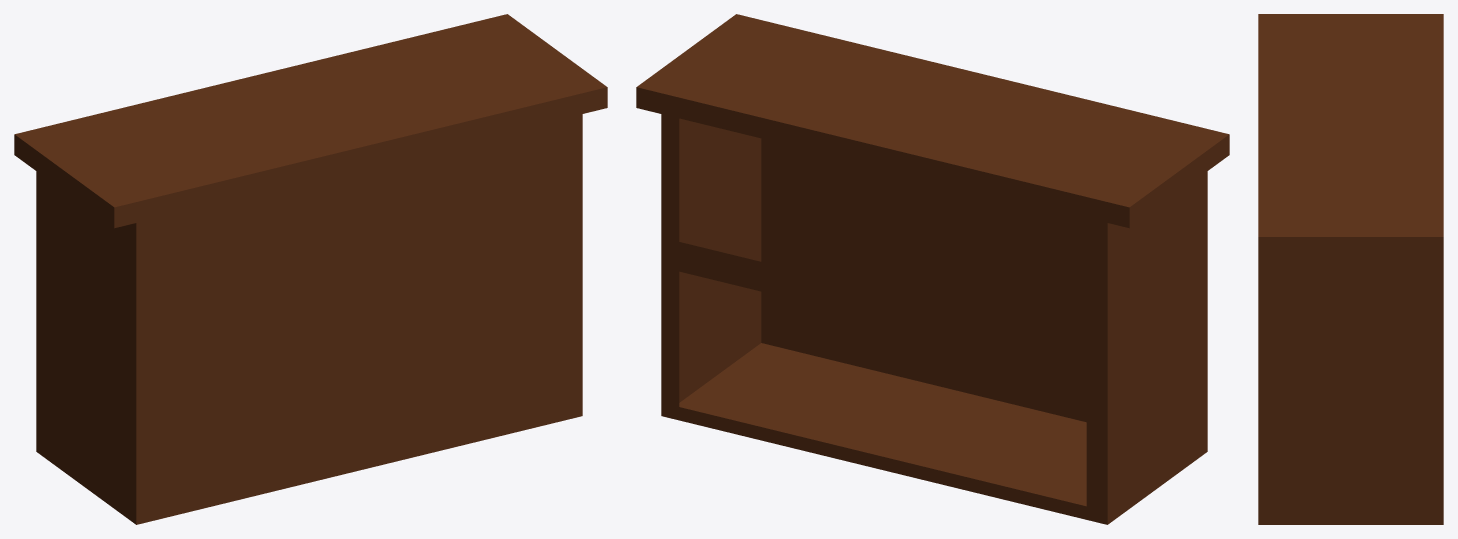
File: animatedDrawer2Structure.obj
3 views of the same model, side by side, from view 1: azimuth 30°, elevation 25°; view 2: azimuth 150°, elevation 25°; view 3: azimuth 270°, elevation 25° (orthographic). The views are drawn at different scales.
Parts seen in each view (by area): view 1: Cubo.009_Cubo.012; view 2: Cubo.009_Cubo.012; view 3: Cubo.009_Cubo.012.
Boxes of the visible parts, x1=… form: Cubo.009_Cubo.012: x1=14, y1=14, x2=607, y2=524; Cubo.009_Cubo.012: x1=636, y1=14, x2=1229, y2=524; Cubo.009_Cubo.012: x1=1258, y1=14, x2=1443, y2=524.
Size of the model in its own units: 34.47 by 21.57 by 12.1.
Materials: 1 (1 with a texture image).
